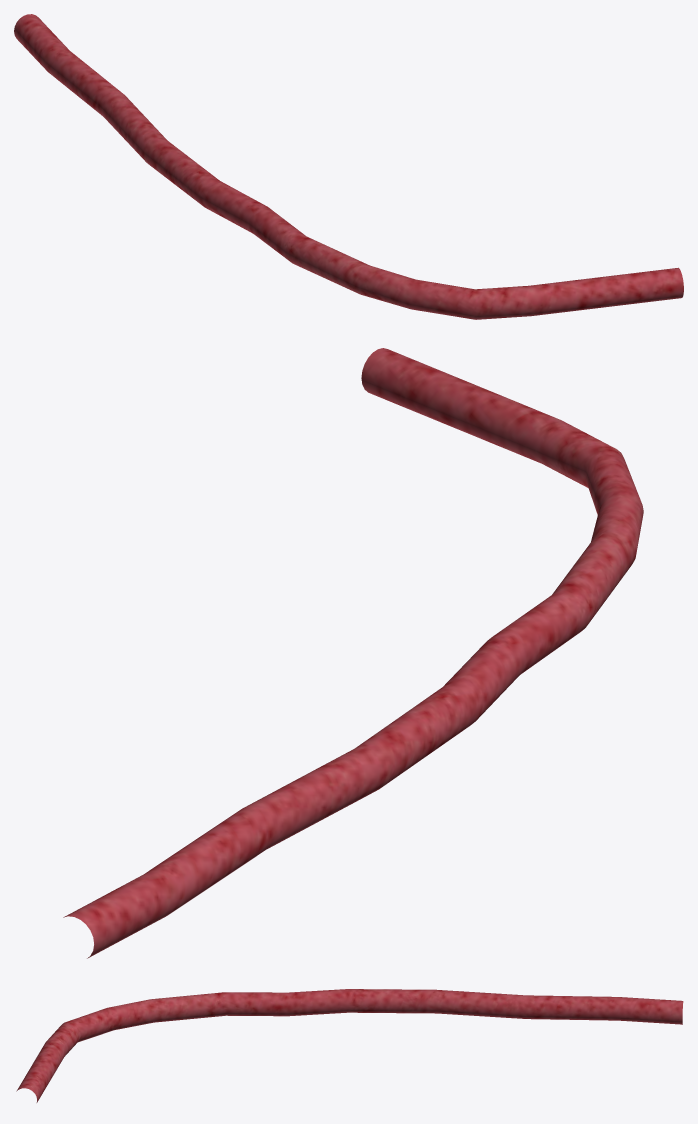
The model's file is Ureter1.glb.
3 views of the same model, one above another, from view 1: azimuth 30°, elevation 25°; view 2: azimuth 150°, elevation 25°; view 3: azimuth 270°, elevation 25° (orthographic). The views are drawn at different scales.
Parts seen in each view (by area): view 1: Ureter1; view 2: Ureter1; view 3: Ureter1.
Part boxes in pixels (box(x1,y1,x2,y2)): Ureter1: box(14, 14, 683, 319); Ureter1: box(63, 348, 643, 958); Ureter1: box(16, 989, 683, 1102).
Bounding box in the file's own units: 21.75 × 2.1 × 58.93.
Materials: 1 (1 with a texture image).
